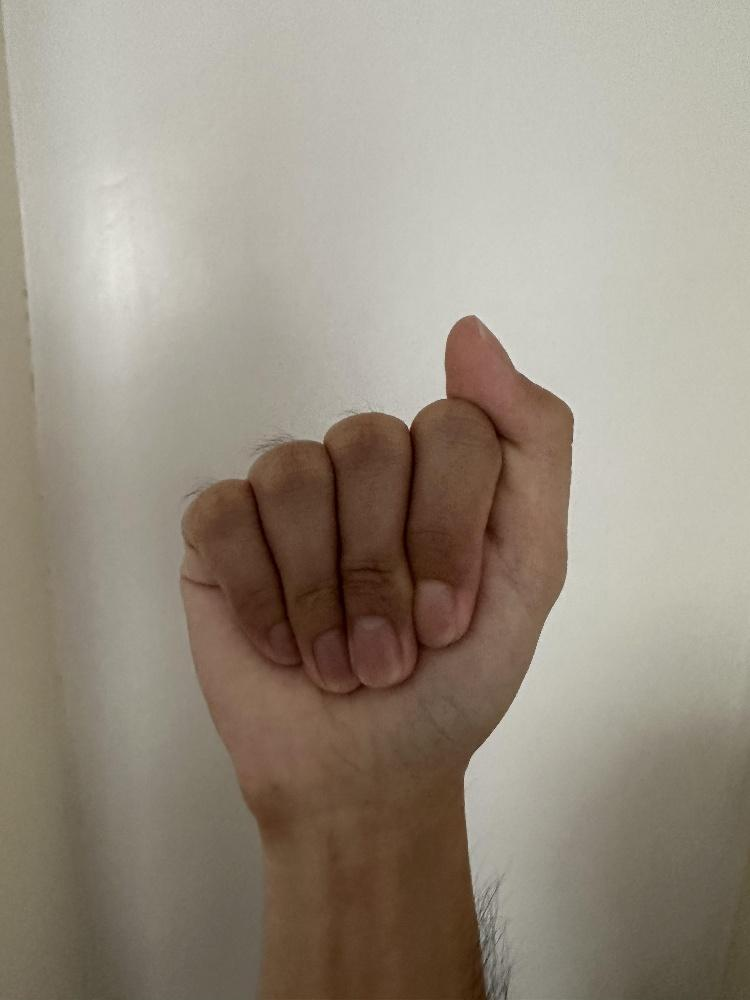a: (175, 310, 577, 830)
